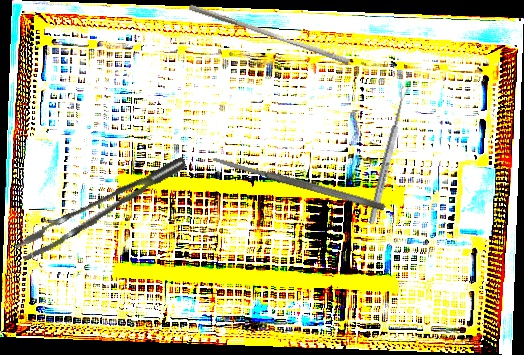Pusher: (186, 3, 352, 66)
Spatula Surgical: (211, 153, 386, 213)
Surgical Spoon: (366, 85, 411, 225)
Tissue Forceps: (7, 156, 197, 263)
